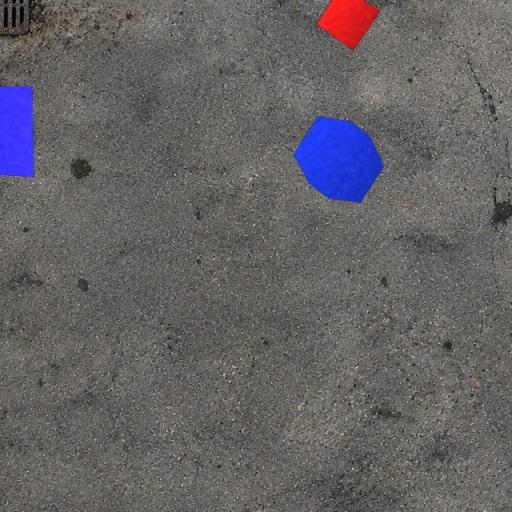RED_SQUARE: (316, 0, 381, 51)
